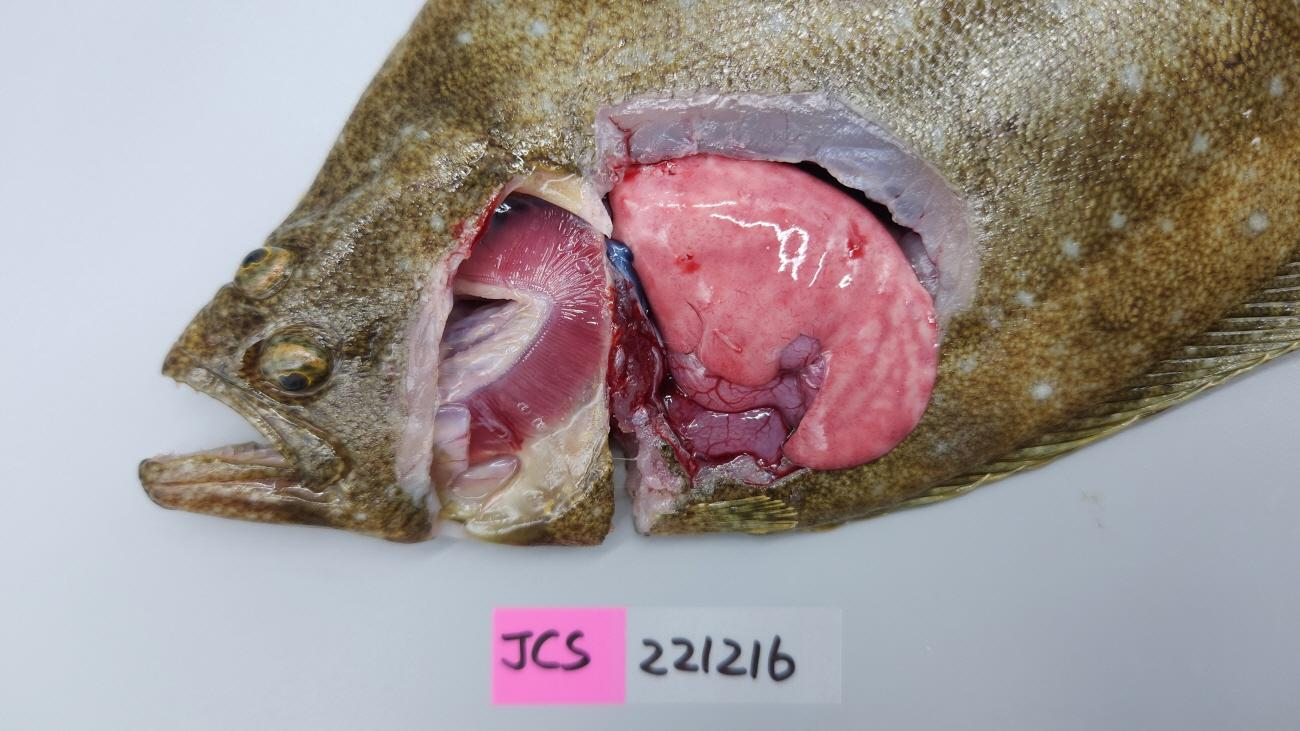VILIC: (621, 159, 677, 183), (845, 220, 868, 261), (677, 252, 701, 274)
